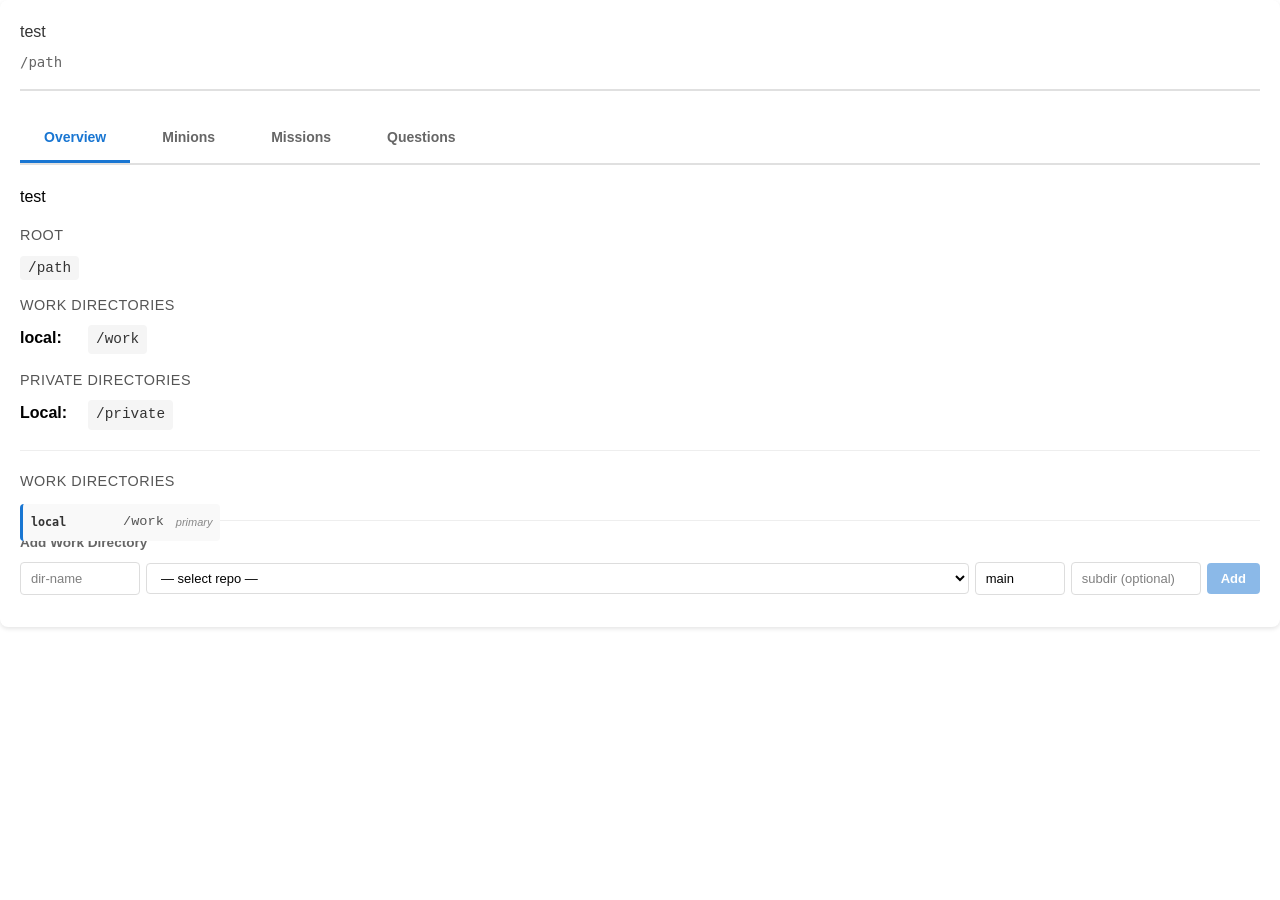
it: WingManagement › switches to questions tab when clicked
The image size is (1280, 900).
Questions is now at index 3 (after Overview, Minions, Missions)
Click the button with class "tab-button" showing "Questions".
click(421, 139)  # box [363,115,480,163]
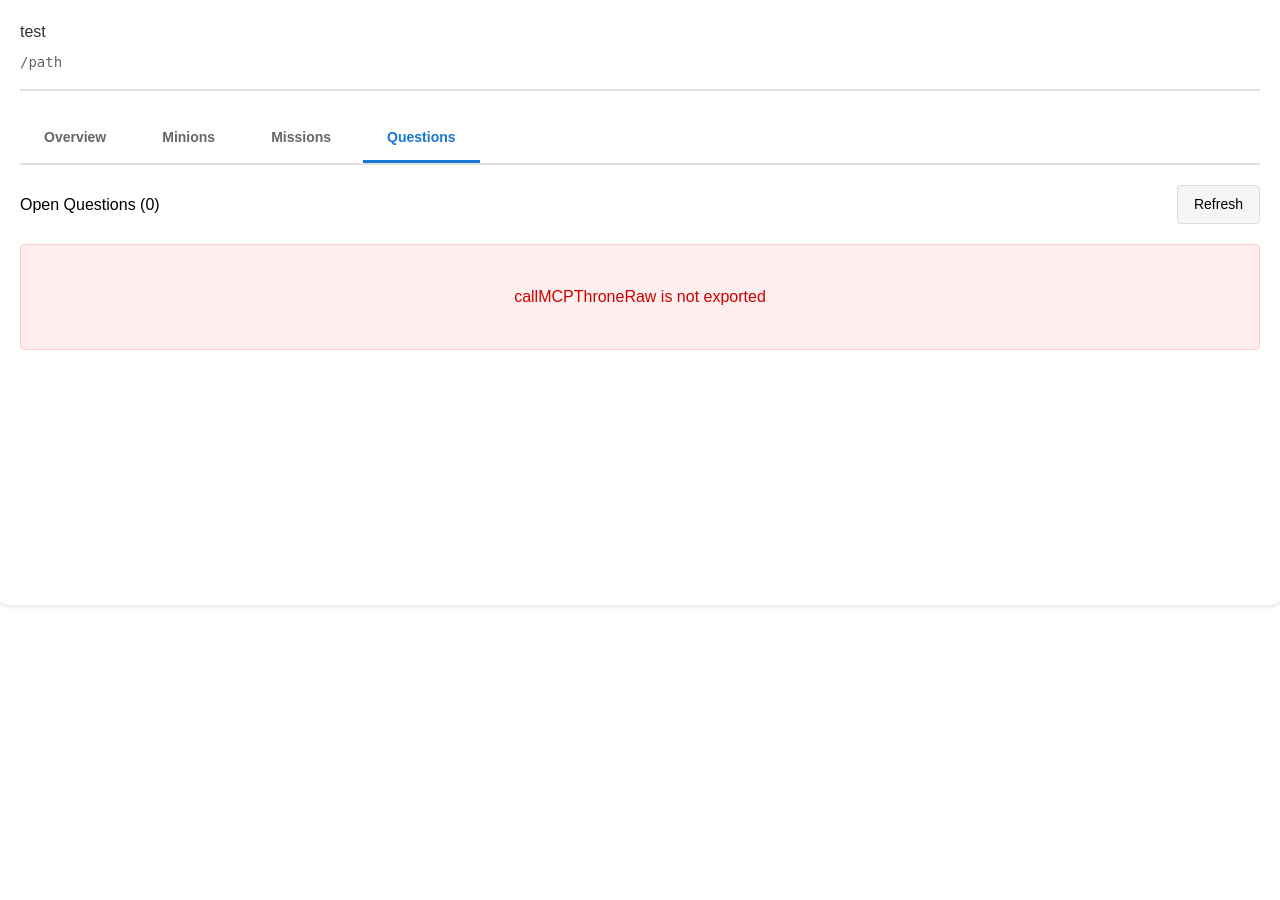
Result: the element showing "Open Questions (0) Refresh callMCPThroneRaw is not exported" is shown at [20,185,1260,350]
